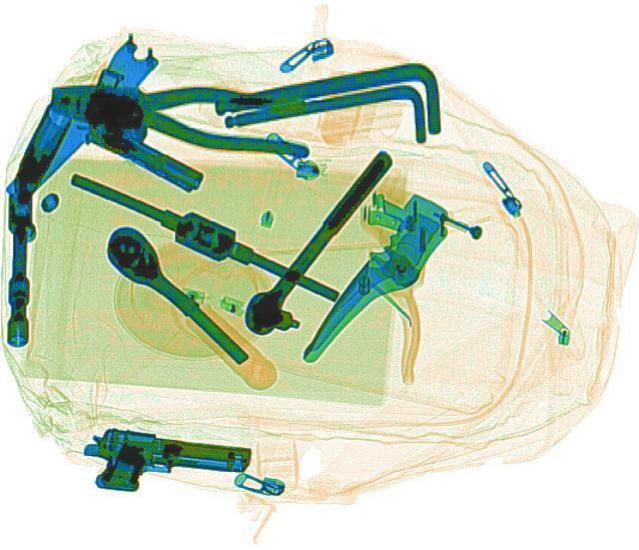Gun: (72, 422, 253, 502)
Pliers: (44, 65, 318, 158)
